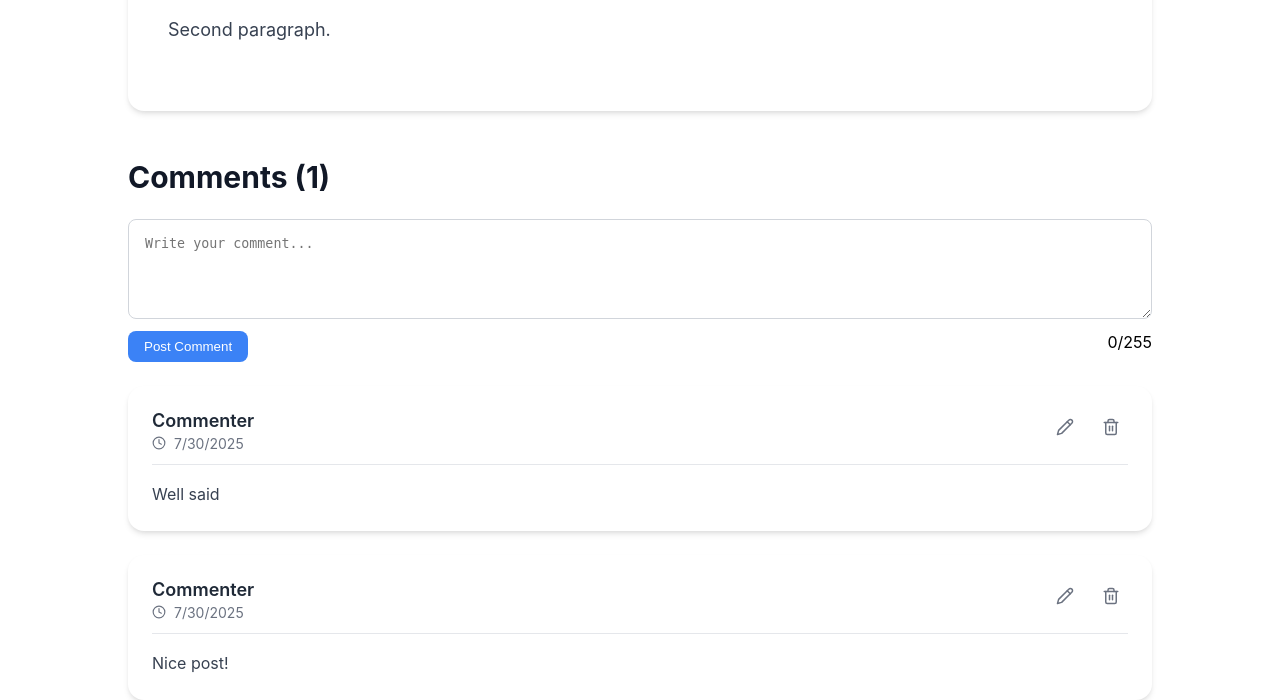
Test: <Post /> › deletes a comment
(page scrolled)
What coordinates should you click on to do the following:
click the 2nd button named "Delete"
I would click on:
 (1111, 597)
Its box is [1094,579,1128,616].
(page scrolled)
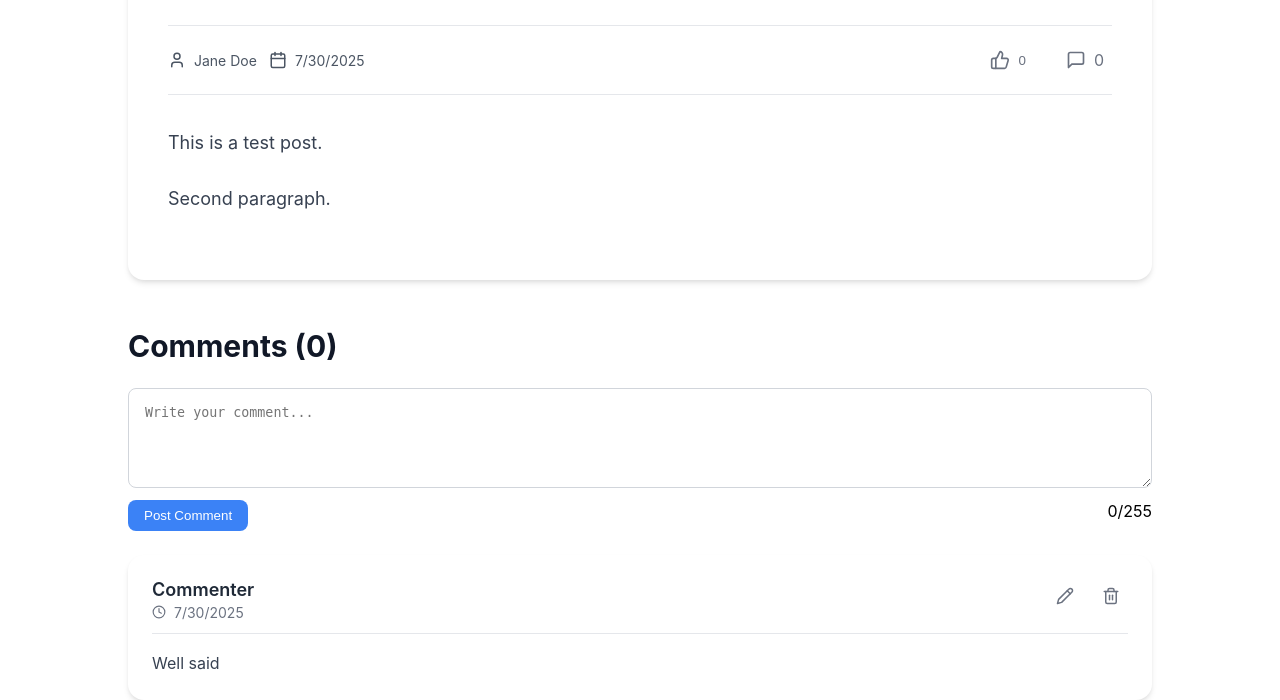
Now the text "Nice post!" is gone
